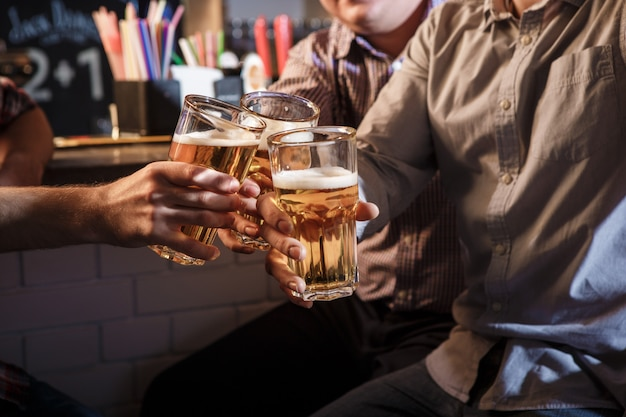alcohol: (146, 95, 267, 270), (268, 127, 359, 303), (230, 90, 321, 255)
